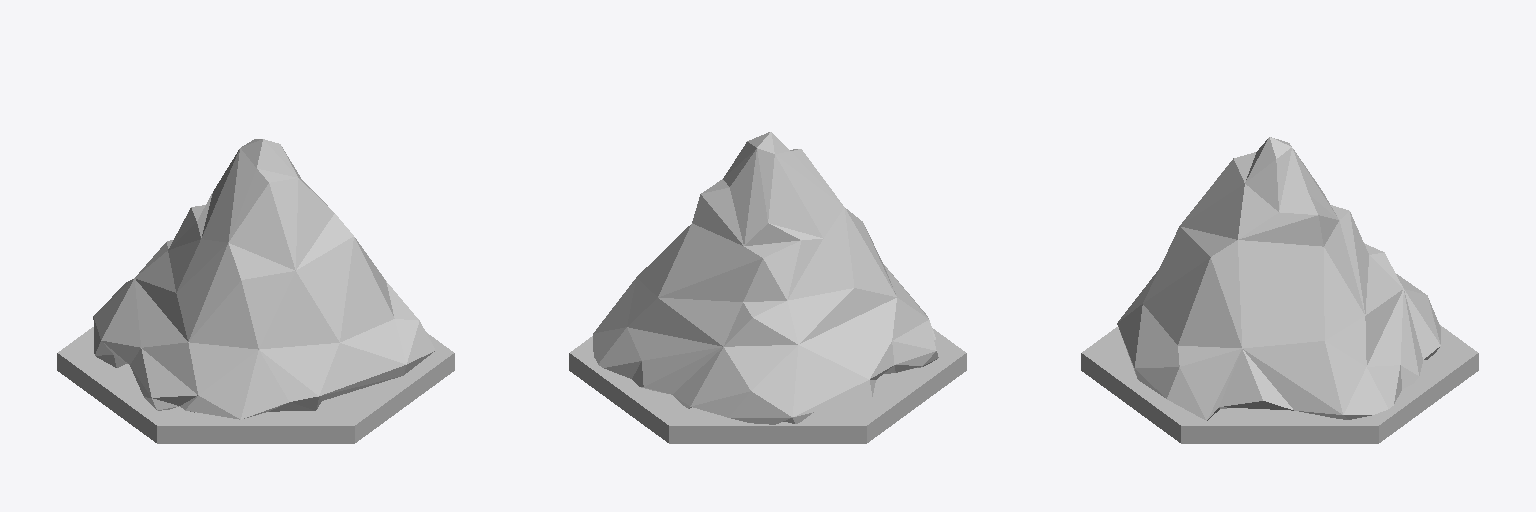
File: mountain.obj
3 renders of one model, left to right at view 1: azimuth 30°, elevation 25°; view 2: azimuth 150°, elevation 25°; view 3: azimuth 270°, elevation 25°, orthographic.
Parts seen in each view (by area): view 1: Mesh_0, Cylinder; view 2: Mesh_0, Cylinder; view 3: Mesh_0, Cylinder.
Part boxes in pixels (left/top/right/bottom): Mesh_0: left=93, top=139, right=435, bottom=419; Cylinder: left=57, top=327, right=454, bottom=443; Mesh_0: left=593, top=132, right=938, bottom=424; Cylinder: left=569, top=328, right=966, bottom=443; Mesh_0: left=1117, top=137, right=1440, bottom=420; Cylinder: left=1081, top=324, right=1478, bottom=443.
Bounding box in the file's own units: 1.73 × 1.34 × 2.